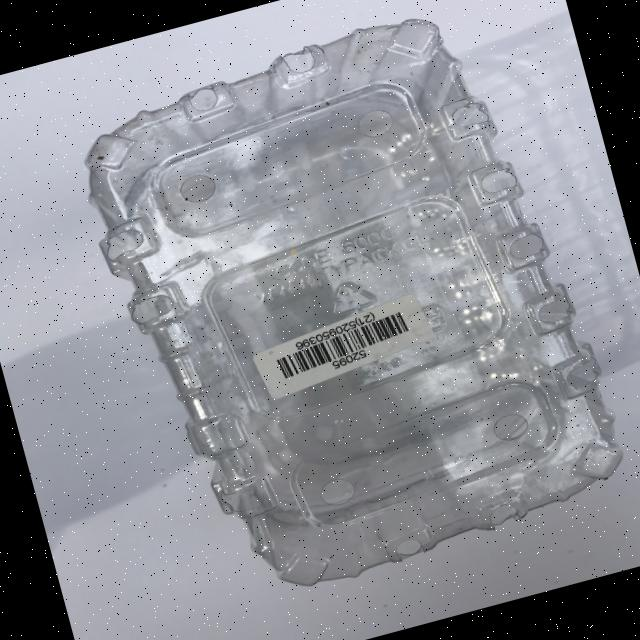plastic: (61, 0, 639, 619)
